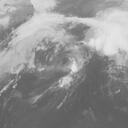cyclone: (35, 32, 85, 80)
